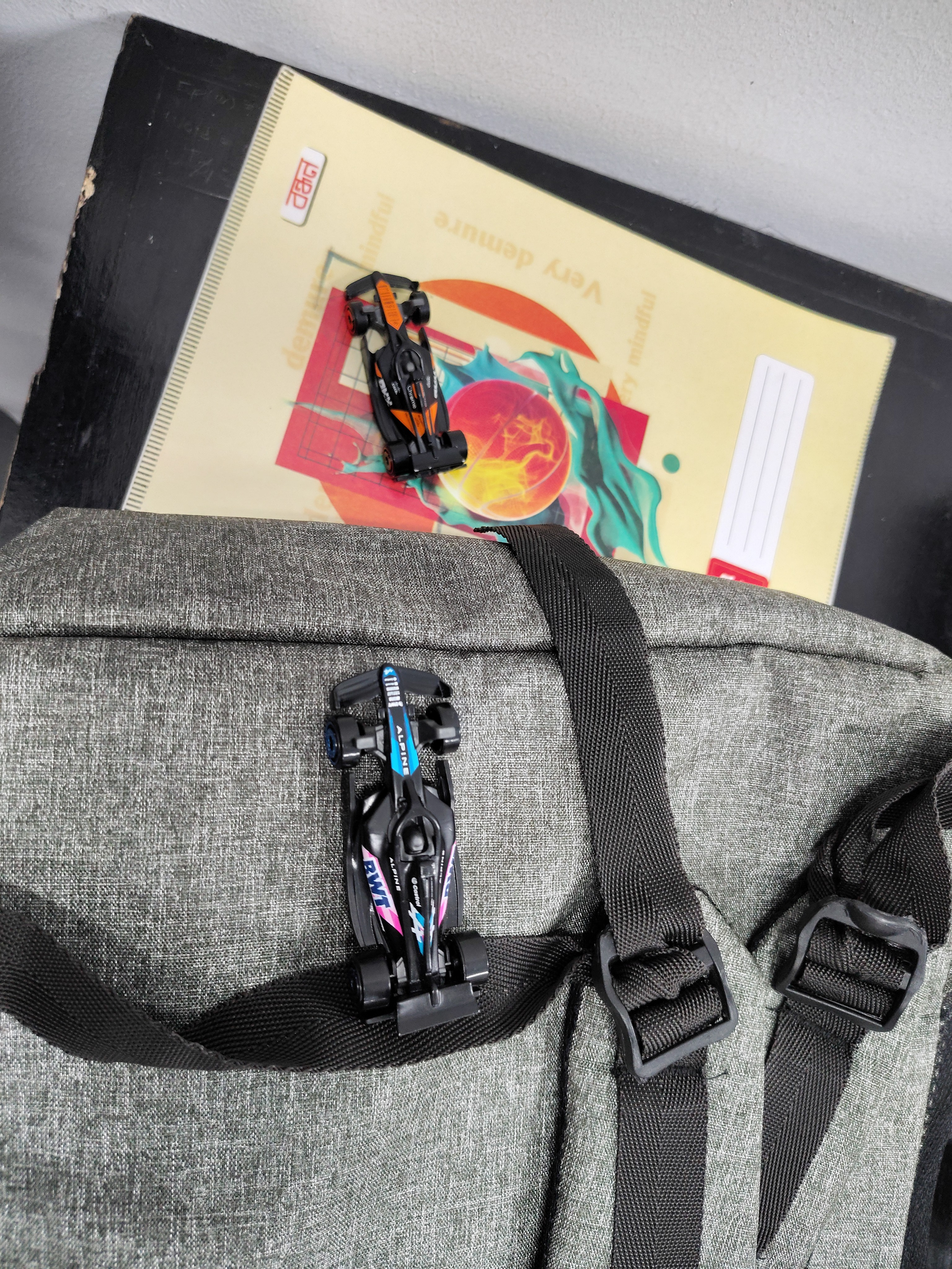Alpine A524: (304, 632, 522, 1052)
McLaren MCL40: (333, 254, 476, 513)
